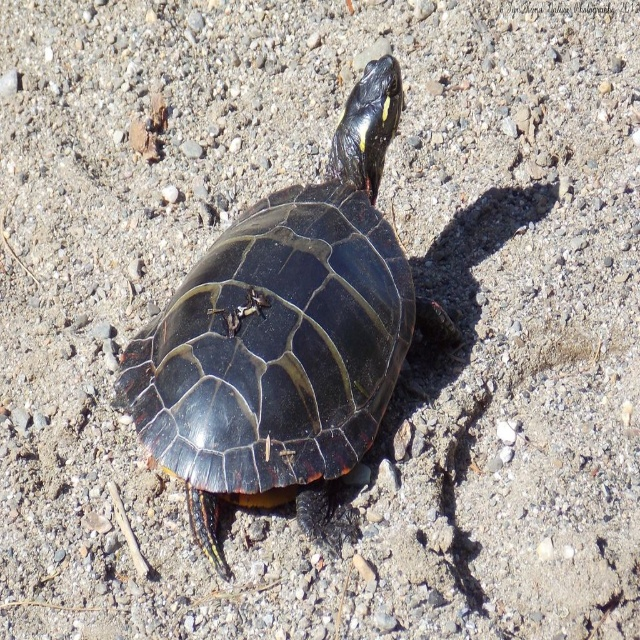Tortoise: (110, 53, 462, 581)
